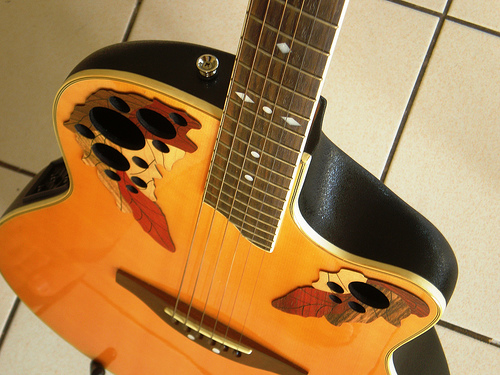guitar: (1, 1, 462, 375)
